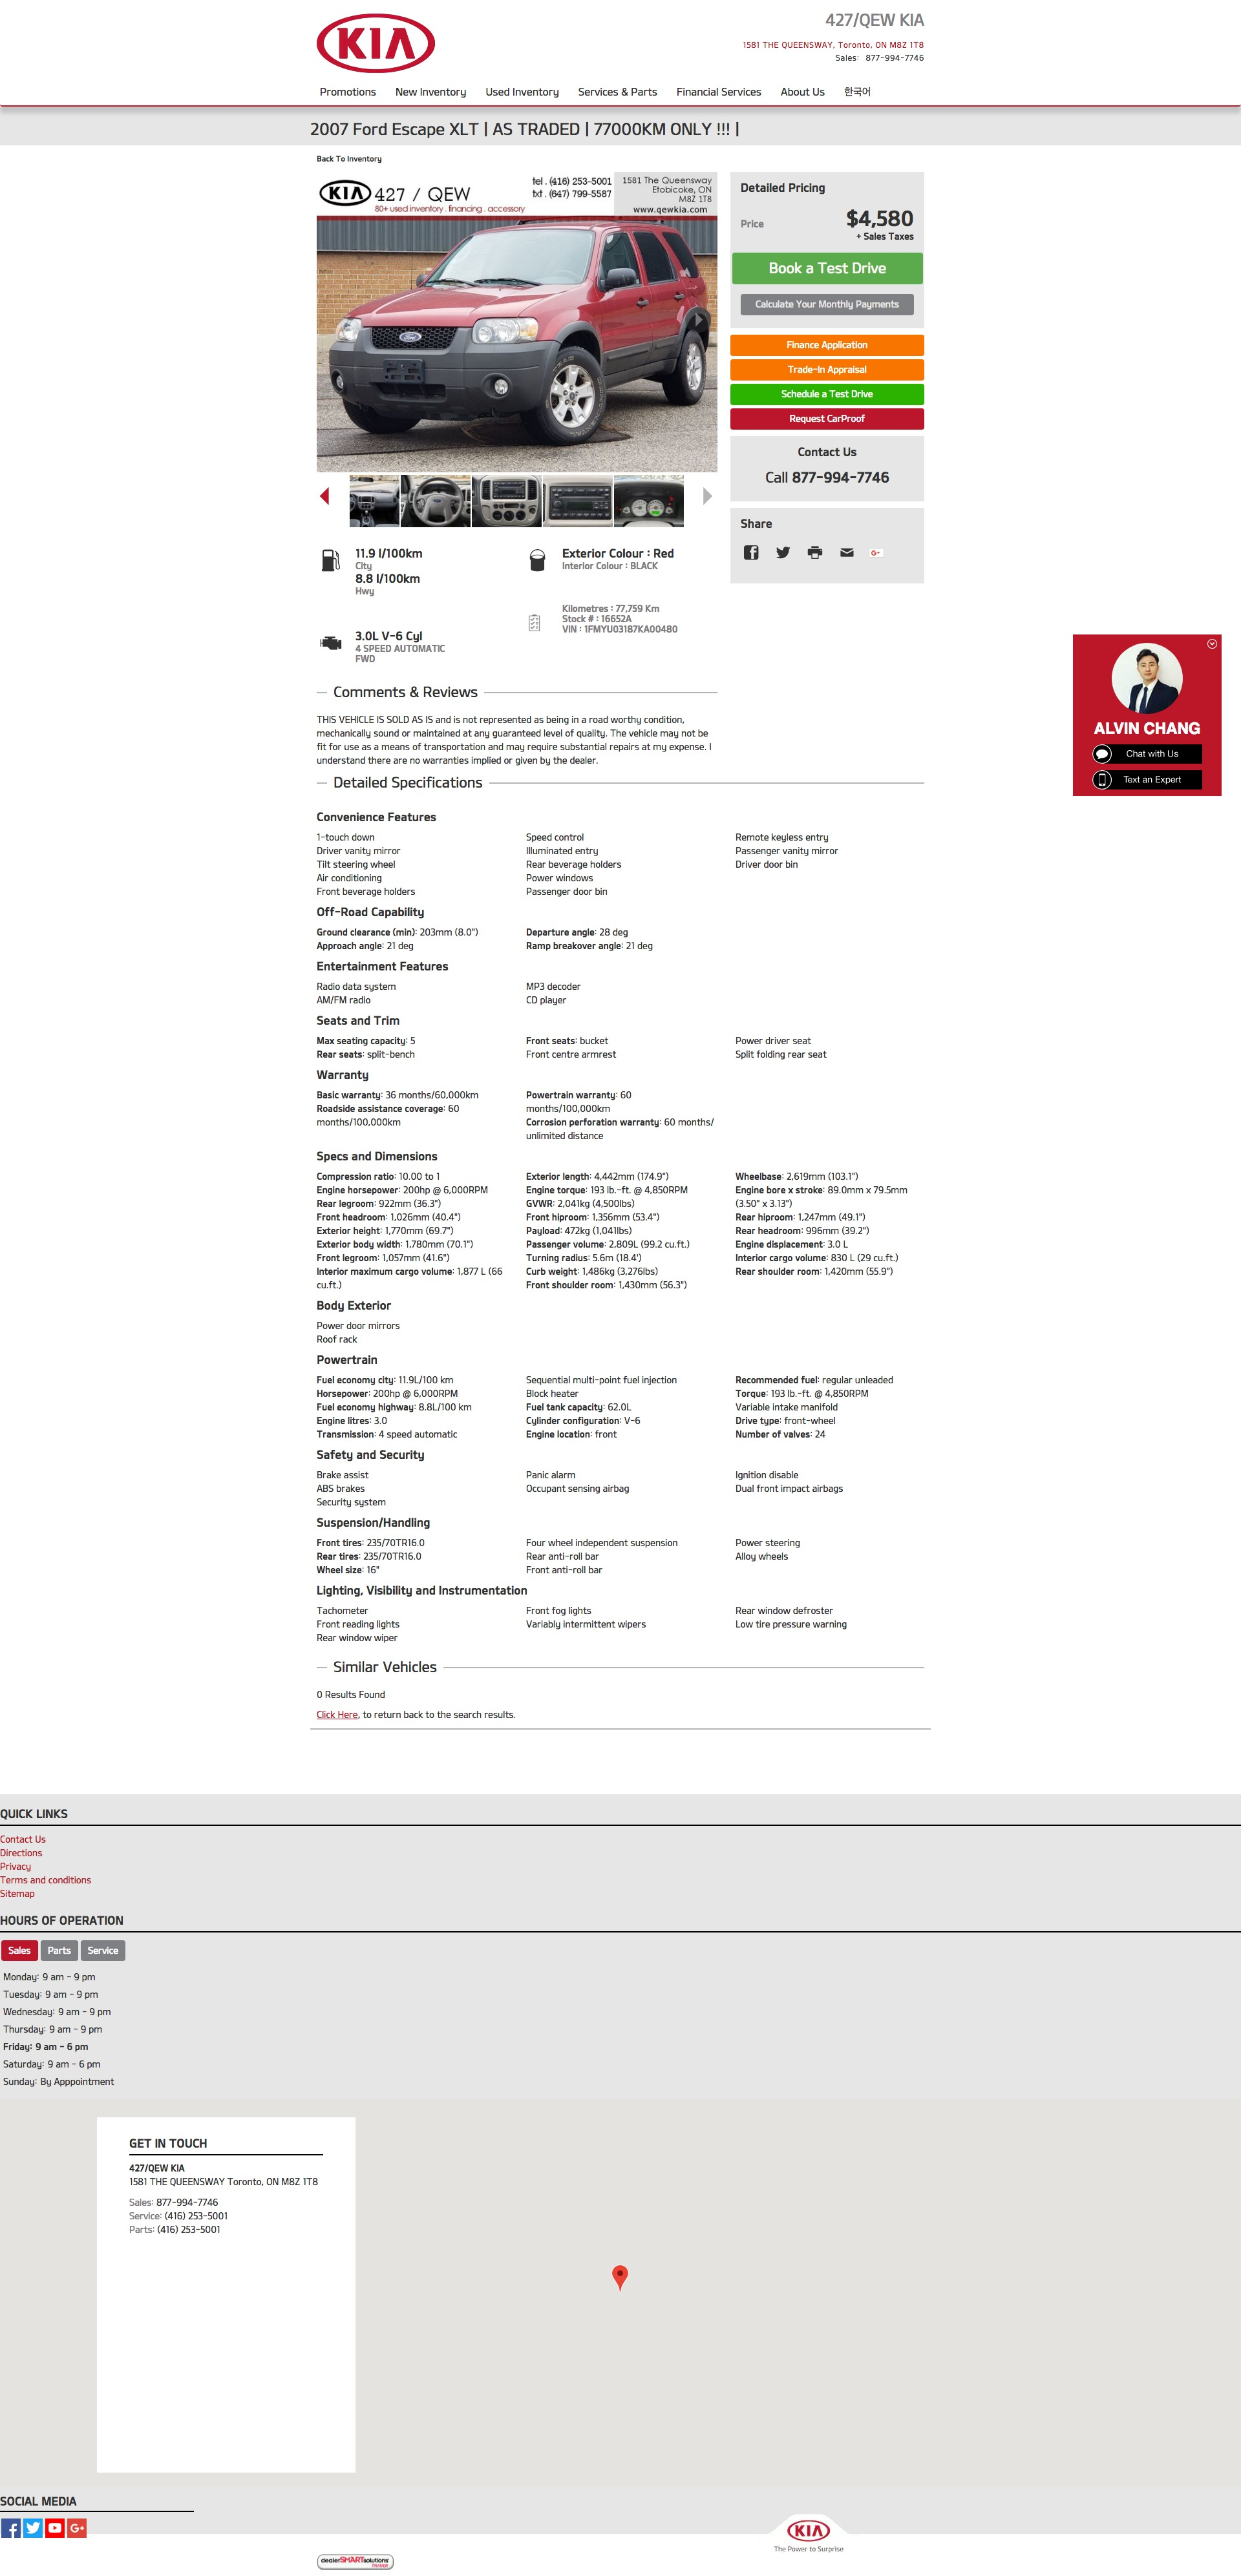car: (702, 486, 713, 506)
